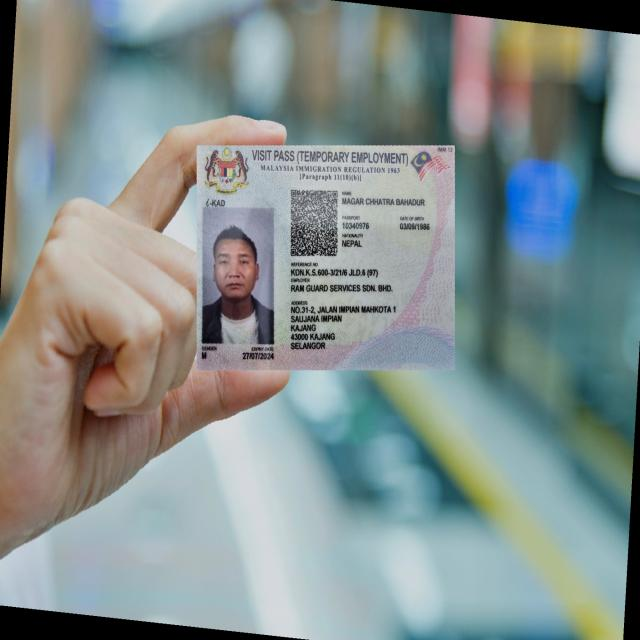ikad-temp: (195, 143, 456, 371)
